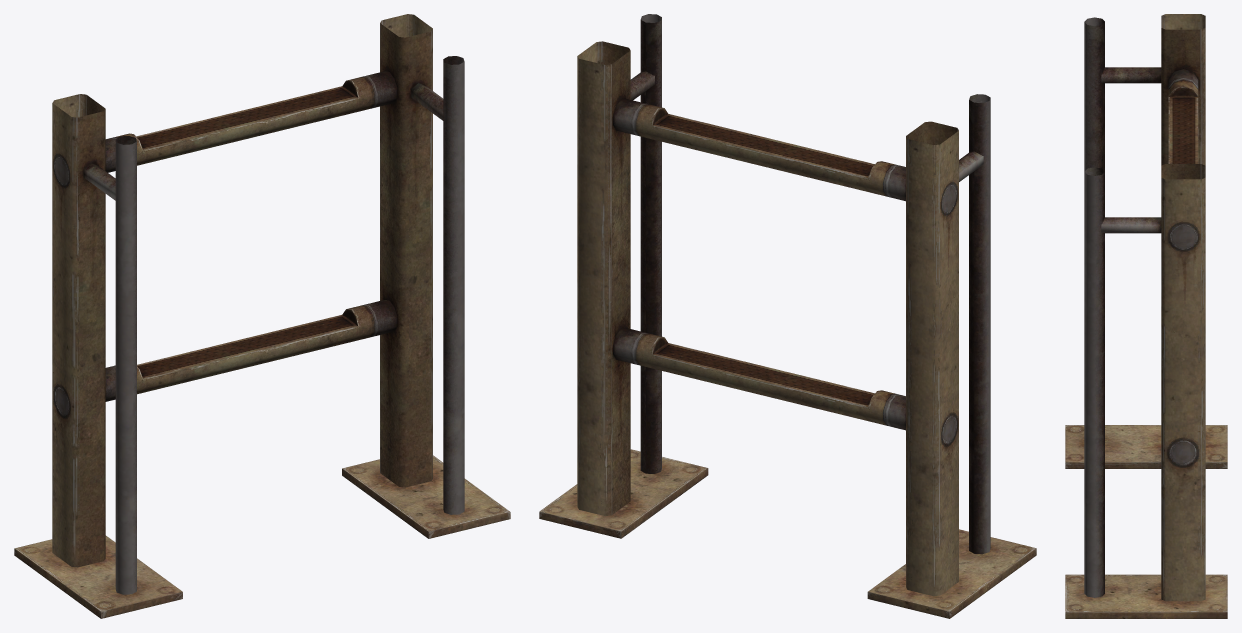
Rendered from ladder_base_pplant.dae.
The picture shows the model from 3 angles, left to right: view 1: azimuth 30°, elevation 25°; view 2: azimuth 150°, elevation 25°; view 3: azimuth 270°, elevation 25°; orthographic projection. The views are drawn at different scales.
Visible parts, largest first — view 1: ladder_bottom_pplant; view 2: ladder_bottom_pplant; view 3: ladder_bottom_pplant.
Boxes of the visible parts, x1,y1,x2,y2 form: ladder_bottom_pplant: [14, 14, 510, 618]; ladder_bottom_pplant: [539, 14, 1036, 618]; ladder_bottom_pplant: [1065, 14, 1227, 618].
Bounding box in the file's own units: 0.9375 × 1 × 0.3438.
